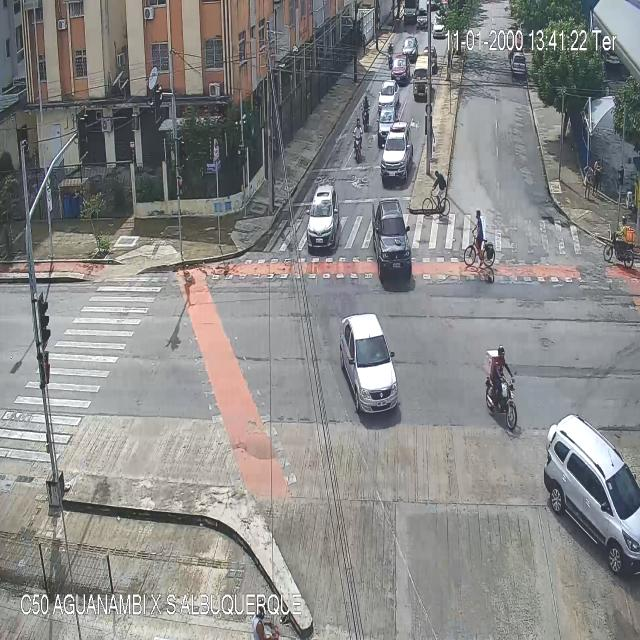Car: (542, 412, 640, 576), (340, 310, 398, 414), (372, 198, 412, 276), (305, 184, 337, 252), (380, 122, 413, 178), (412, 55, 432, 98), (378, 81, 400, 114), (377, 110, 395, 144), (392, 56, 408, 84), (402, 38, 418, 64), (391, 58, 406, 84), (512, 53, 526, 78), (432, 16, 444, 39), (417, 8, 429, 26)
Motorcycle: (486, 347, 520, 427), (604, 216, 634, 269), (353, 117, 362, 163), (362, 97, 370, 131), (388, 41, 393, 72)
